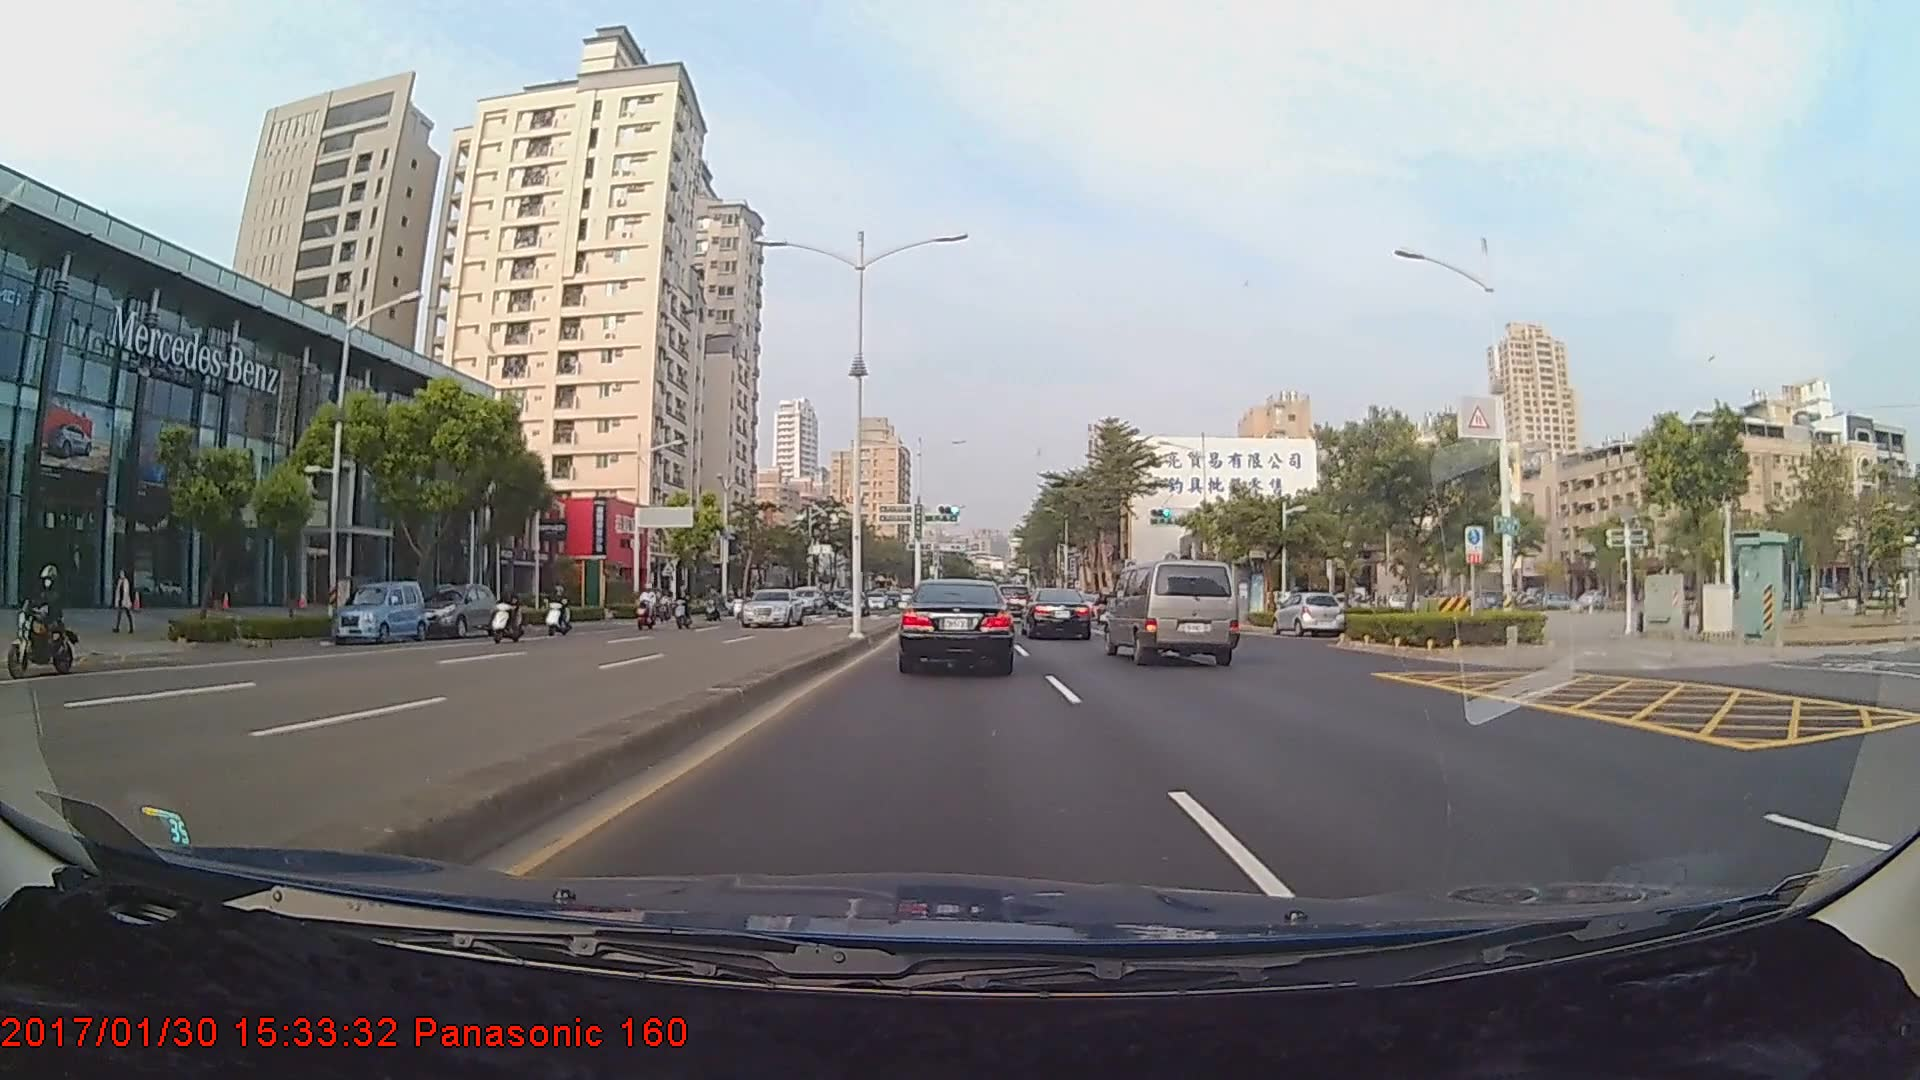pedestrian: (114, 571, 136, 636)
rider: (11, 562, 92, 676), (479, 584, 533, 647), (539, 584, 575, 644), (632, 582, 665, 633)
vehicle: (1105, 557, 1241, 666), (898, 576, 1013, 674), (328, 581, 426, 646), (411, 582, 502, 639), (1020, 587, 1094, 641), (1272, 592, 1344, 638), (741, 587, 801, 627)
